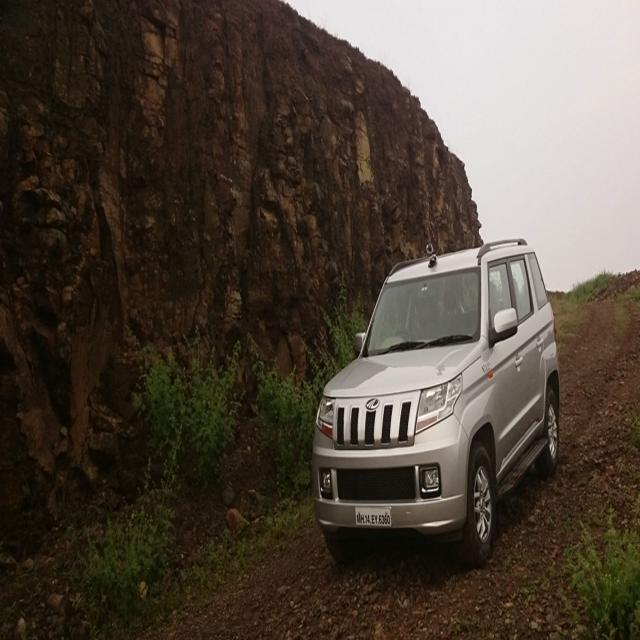light_vehicle: (310, 238, 564, 551)
